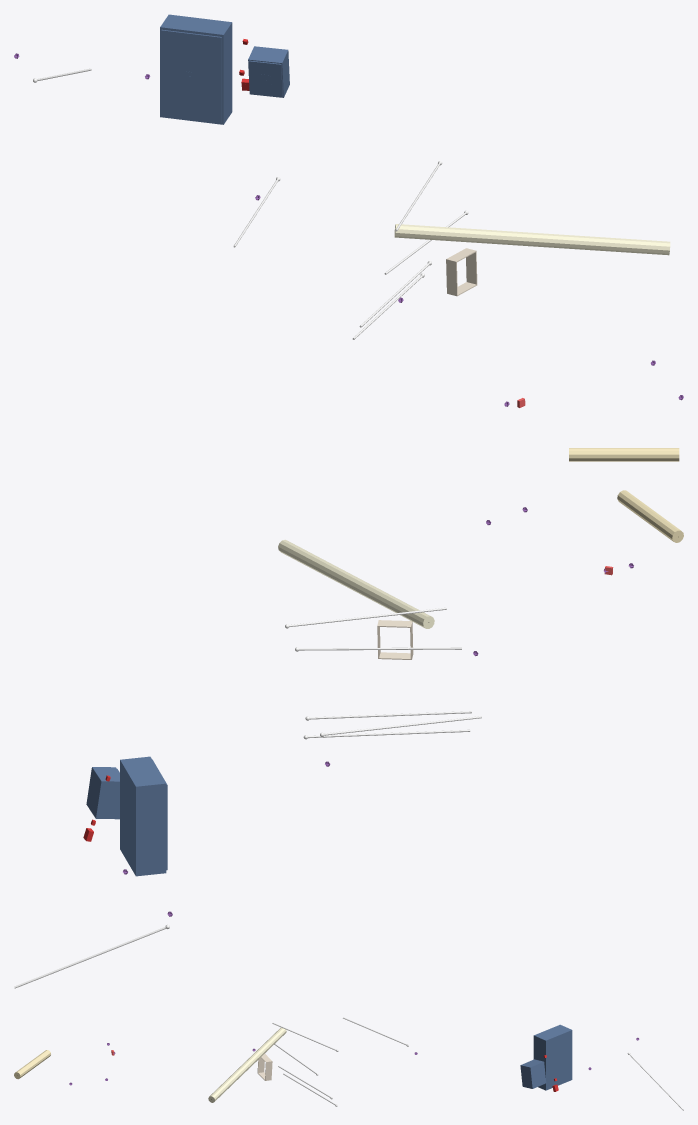
The model's file is tile_394.glb.
3 views of the same model, one above another, from view 1: azimuth 30°, elevation 25°; view 2: azimuth 150°, elevation 25°; view 3: azimuth 270°, elevation 25° (orthographic). The views are drawn at different scales.
Bounding box in the file's own units: 6.71 × 2.69 × 21.88.
